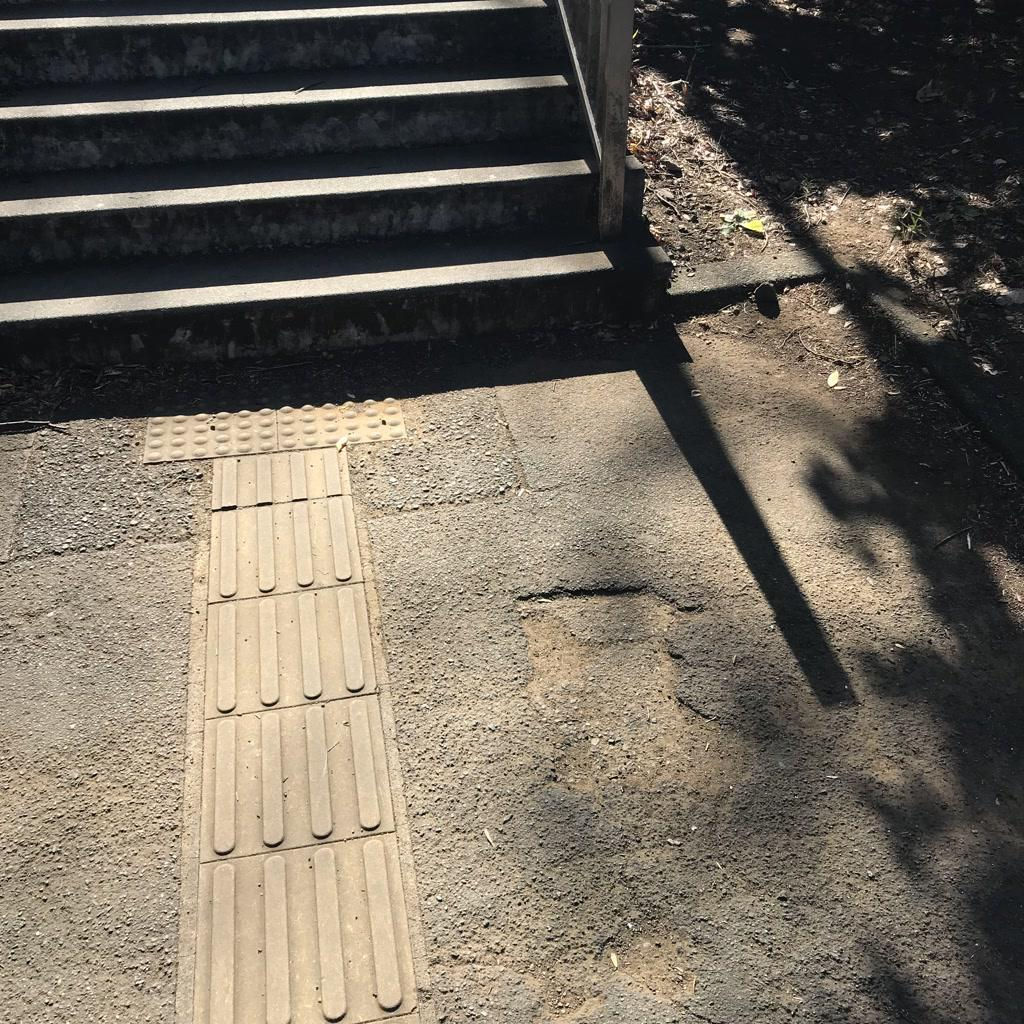D40: (503, 575, 789, 806), (527, 904, 705, 1020)
